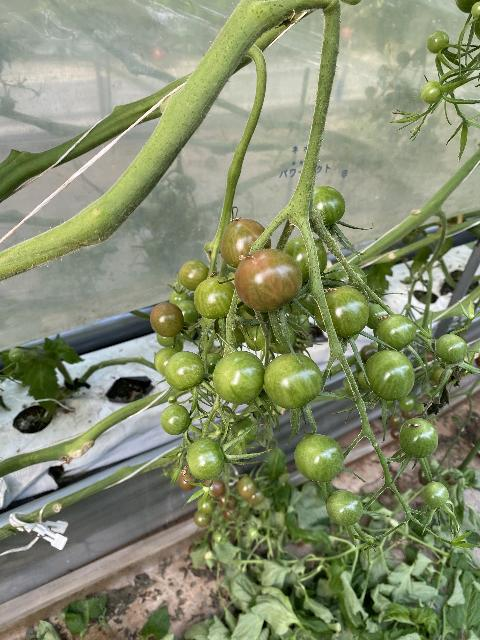l_green: (265, 352, 323, 409), (315, 285, 368, 338), (213, 351, 265, 404), (364, 350, 414, 401), (294, 434, 343, 482), (285, 236, 328, 284), (194, 276, 235, 320), (164, 351, 204, 391), (186, 438, 224, 480), (399, 418, 438, 457), (377, 314, 416, 352), (314, 187, 346, 227), (326, 490, 362, 525), (436, 334, 467, 363), (179, 261, 208, 291), (161, 405, 189, 435), (422, 482, 449, 509)
l_half_ripened: (234, 249, 302, 311), (220, 218, 271, 269), (150, 303, 184, 337)
